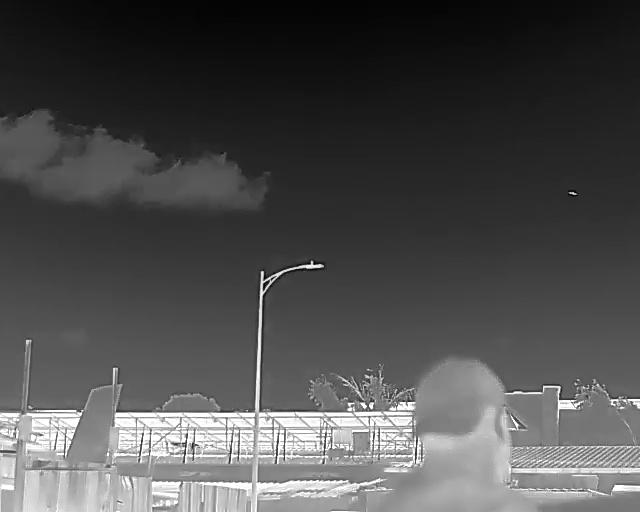fpv-drone: (567, 190, 578, 197)
